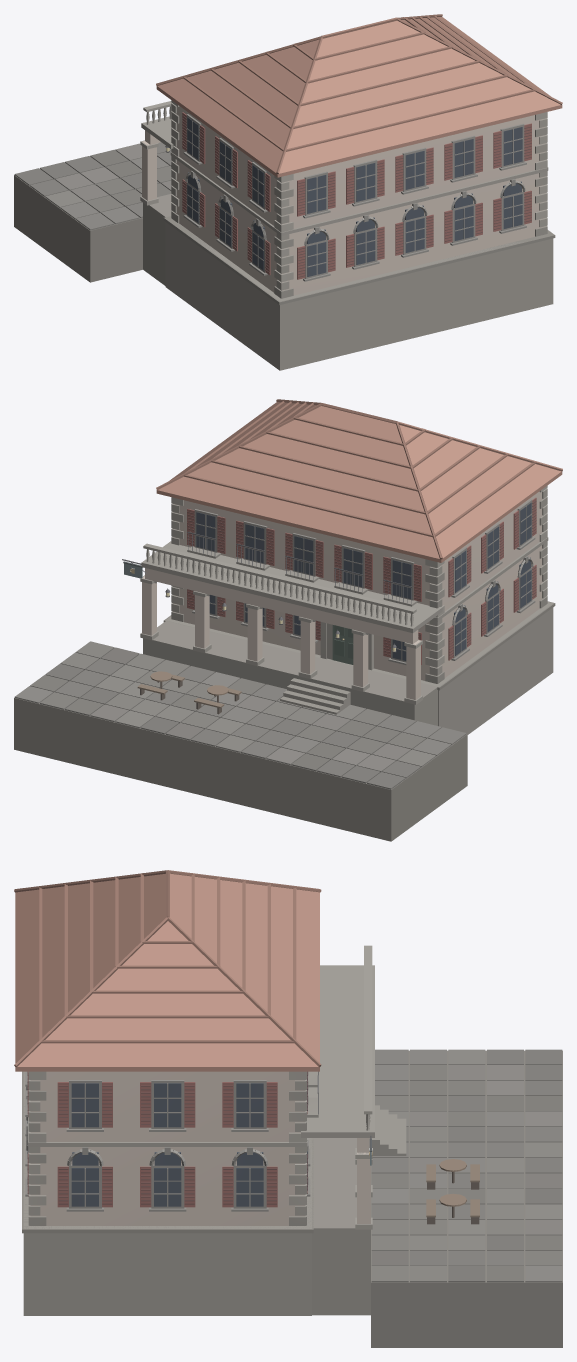
Rendered from tavern_5.gltf.
The picture shows the model from 3 angles, top to bottom: view 1: azimuth 30°, elevation 25°; view 2: azimuth 150°, elevation 25°; view 3: azimuth 270°, elevation 25°; orthographic projection. The views are drawn at different scales.
Parts seen in each view (by area): view 1: Body; view 2: Body; view 3: Body.
Boxes of the visible parts, x1,y1,x2,y2 form: Body: (14,14,562,370); Body: (14,399,562,841); Body: (14,870,562,1347).
Bounding box in the file's own units: 20 × 13.62 × 20.
